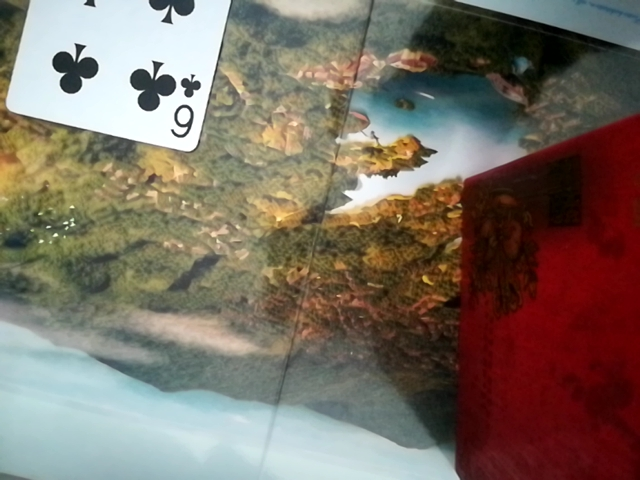mh 6: (3, 0, 238, 159)
